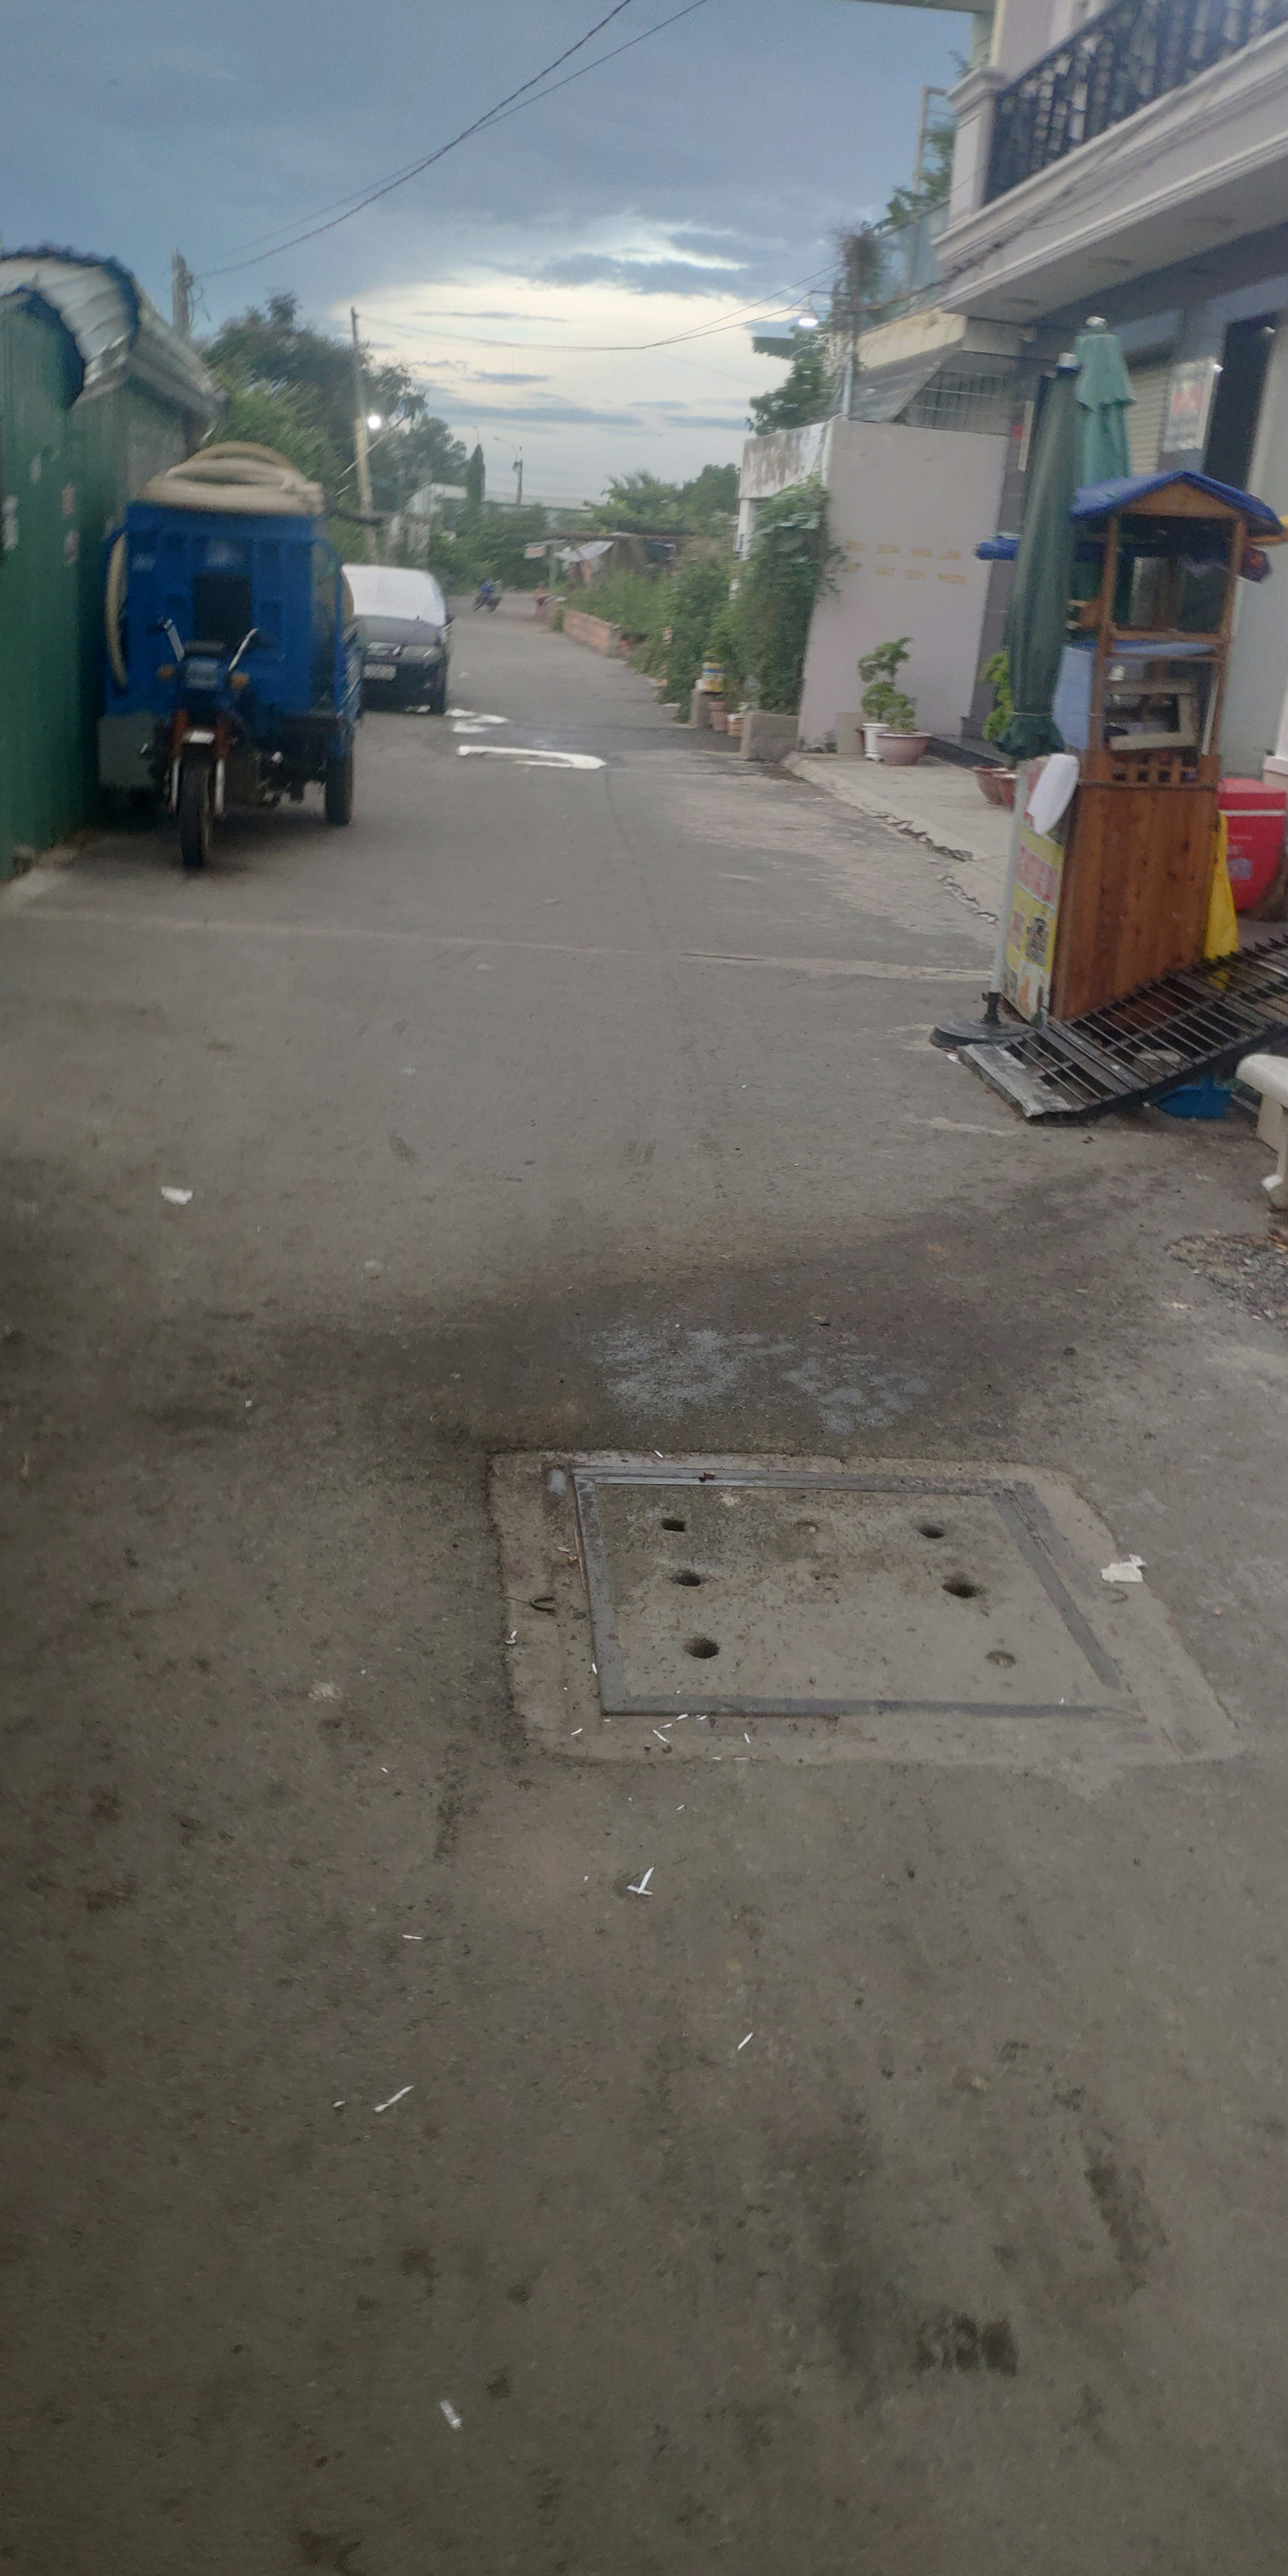hole: (452, 744, 609, 770), (447, 706, 506, 736)
